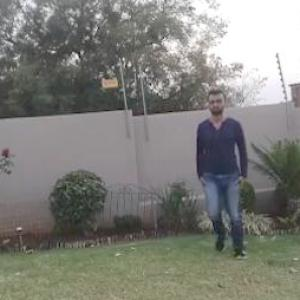follow: (195, 88, 249, 252)
